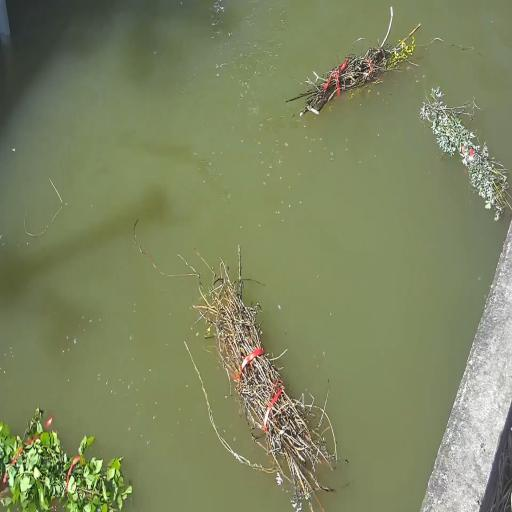twig: (194, 247, 336, 512), (0, 409, 131, 512), (287, 20, 420, 115), (419, 87, 512, 220)
